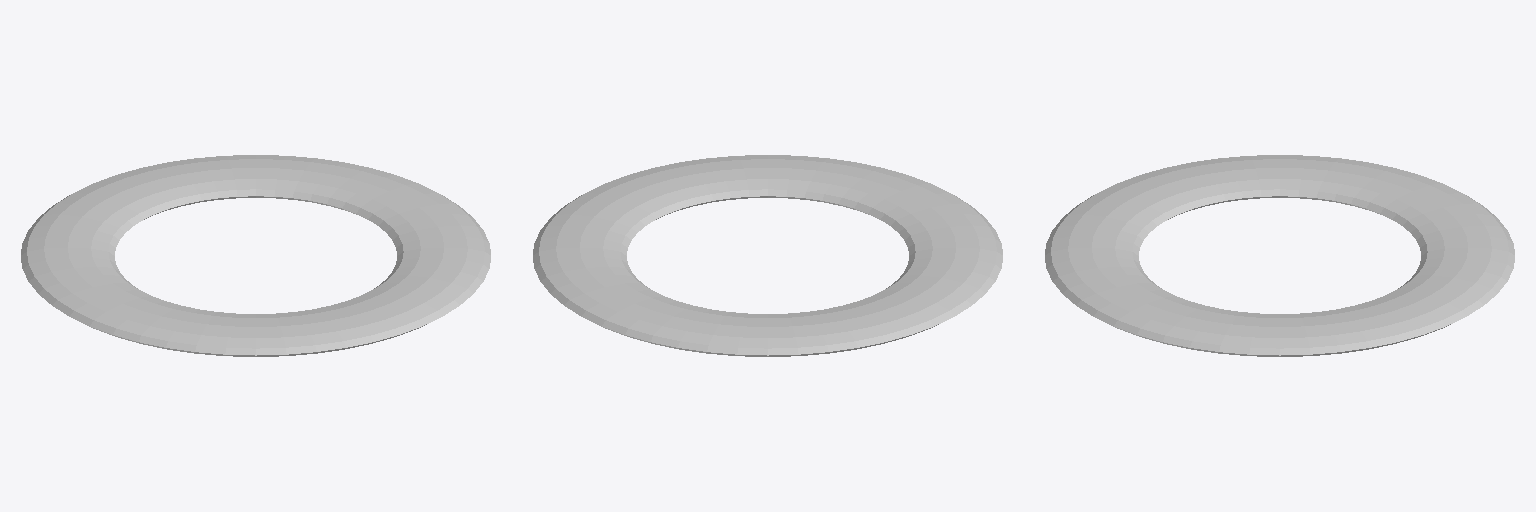
File: selectioncircle.obj
3 views of the same model, side by side, from view 1: azimuth 30°, elevation 25°; view 2: azimuth 150°, elevation 25°; view 3: azimuth 270°, elevation 25° (orthographic).
Visible parts, largest first — view 1: Torus; view 2: Torus; view 3: Torus.
Boxes of the visible parts, <box> form: Torus: <box>21,155,490,356</box>; Torus: <box>533,155,1002,356</box>; Torus: <box>1045,155,1514,356</box>.
Size of the model in its own units: 1.25 by 0.05 by 1.25.